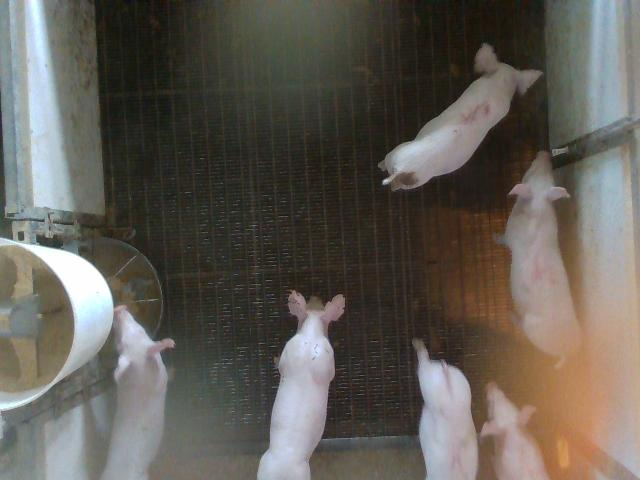pig-4: (495, 151, 582, 367)
pig-5: (379, 44, 542, 191)
